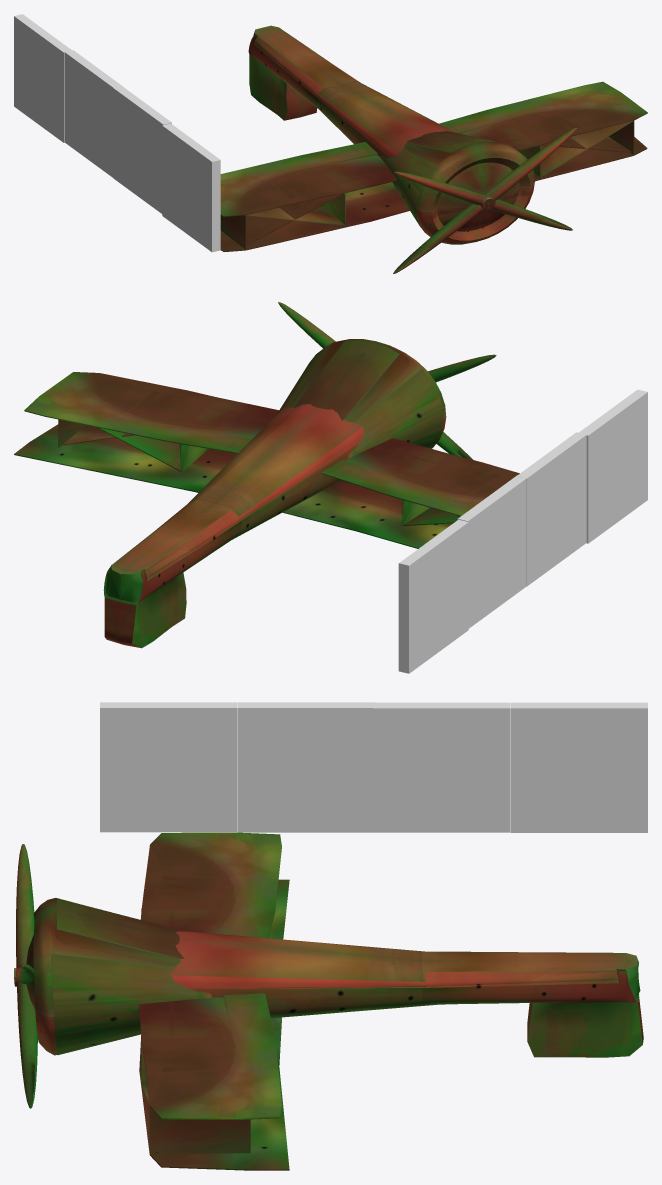
3 views of the same model, one above another, from view 1: azimuth 30°, elevation 25°; view 2: azimuth 150°, elevation 25°; view 3: azimuth 270°, elevation 25° (orthographic). The views are drawn at different scales.
Visible parts, largest first — view 1: BiPlane, Cube.001, Cube.004, Cube.002, Cube.003; view 2: BiPlane, Cube.004, Cube.001, Cube.002, Cube.003; view 3: BiPlane, Cube.001, Cube.004, Cube.003, Cube.002.
Part boxes in pixels (left/top/right/bottom): BiPlane: left=220, top=25, right=647, bottom=273; Cube.001: left=162, top=123, right=220, bottom=252; Cube.004: left=14, top=14, right=71, bottom=142; Cube.002: left=113, top=86, right=171, bottom=213; Cube.003: left=64, top=50, right=122, bottom=177; BiPlane: left=14, top=302, right=519, bottom=648; Cube.004: left=398, top=519, right=468, bottom=673; Cube.001: left=579, top=389, right=647, bottom=543; Cube.002: left=517, top=432, right=586, bottom=586; Cube.003: left=457, top=475, right=526, bottom=628; BiPlane: left=14, top=832, right=643, bottom=1170; Cube.001: left=100, top=702, right=237, bottom=832; Cube.004: left=510, top=702, right=647, bottom=832; Cube.003: left=373, top=702, right=510, bottom=832; Cube.002: left=237, top=702, right=375, bottom=832.
Size of the model in its own units: 535 by 146 by 462.
1 material, 1 textured.
